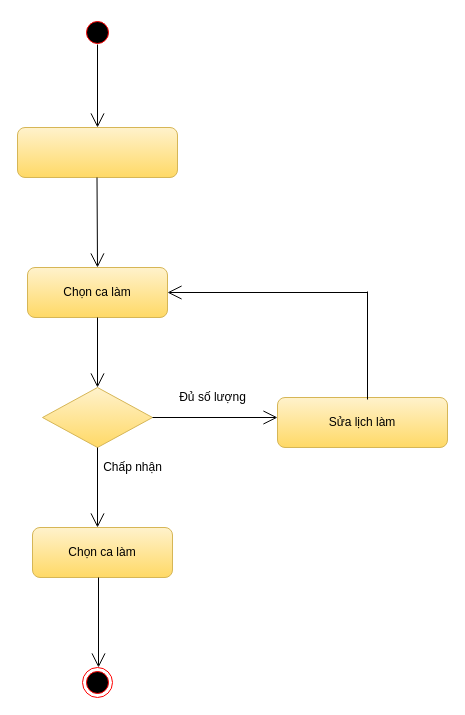
Image size: 465x715. Some labels were removed from this diagram. The centre of each missing label's shape, as x and y in pixels:
"Check" goes at pixel 97 417.
"Chọn đăng kí lịch làm" goes at pixel 97 152.
